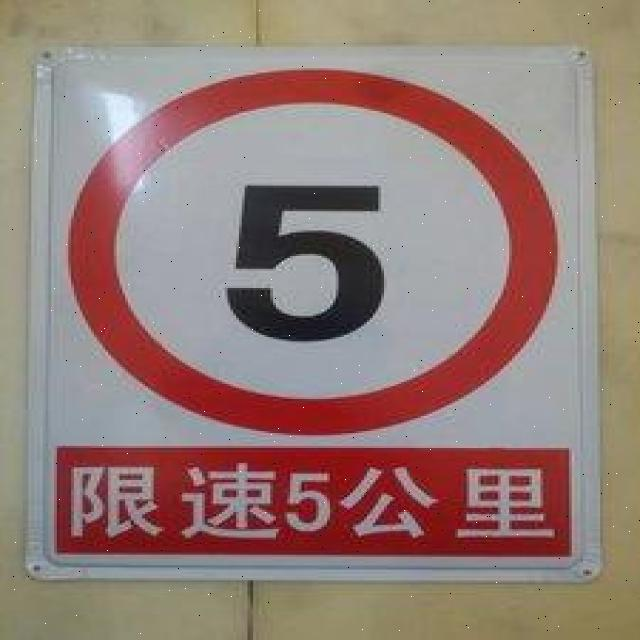speed limit 10: (56, 65, 556, 435)
